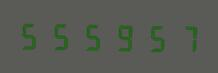five: (47, 18, 76, 52), (138, 20, 167, 54), (17, 18, 46, 51), (78, 19, 107, 52)
nine: (108, 19, 137, 53)
seven: (168, 21, 197, 54)
